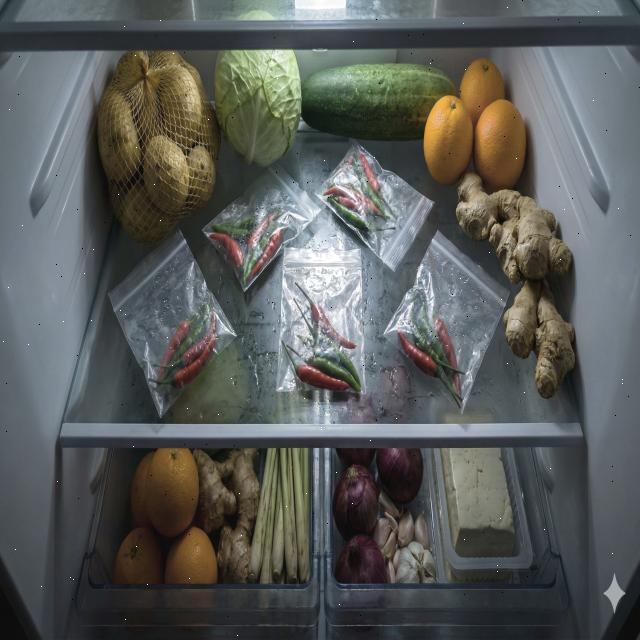cabbage: (214, 49, 302, 169)
chili: (282, 282, 362, 392), (398, 298, 466, 410), (149, 292, 217, 389), (322, 150, 397, 232), (210, 210, 284, 288)
cucumber: (300, 62, 456, 142)
garlic: (372, 488, 437, 584)
ginger: (456, 170, 576, 400), (192, 448, 260, 584)
lemongrass: (248, 448, 310, 584)
onion: (332, 448, 424, 586)
orange: (423, 59, 527, 194), (115, 448, 218, 584)
potato: (97, 51, 221, 245)
tofu: (440, 447, 515, 557)
